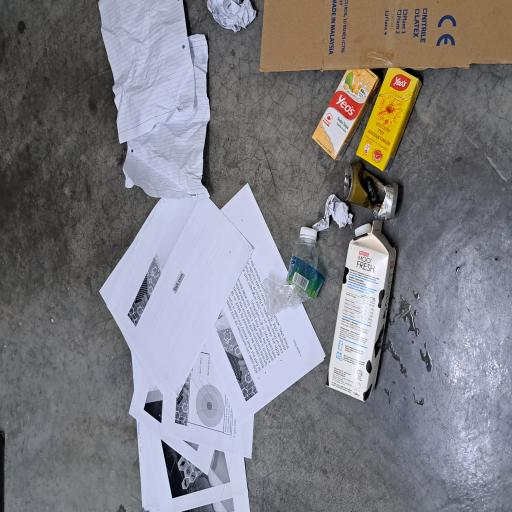can: (220, 458, 261, 512)
cardboard: (330, 341, 383, 512), (330, 345, 384, 512)
drink carton: (84, 434, 219, 512), (264, 416, 332, 504), (256, 473, 332, 512)
paper: (212, 416, 238, 471)
plastic bottle: (147, 351, 214, 429)
plastic bottle cap: (204, 398, 215, 424), (206, 472, 217, 496)
pop tab: (0, 130, 248, 430), (236, 134, 384, 278), (360, 272, 384, 345), (243, 458, 254, 466)
